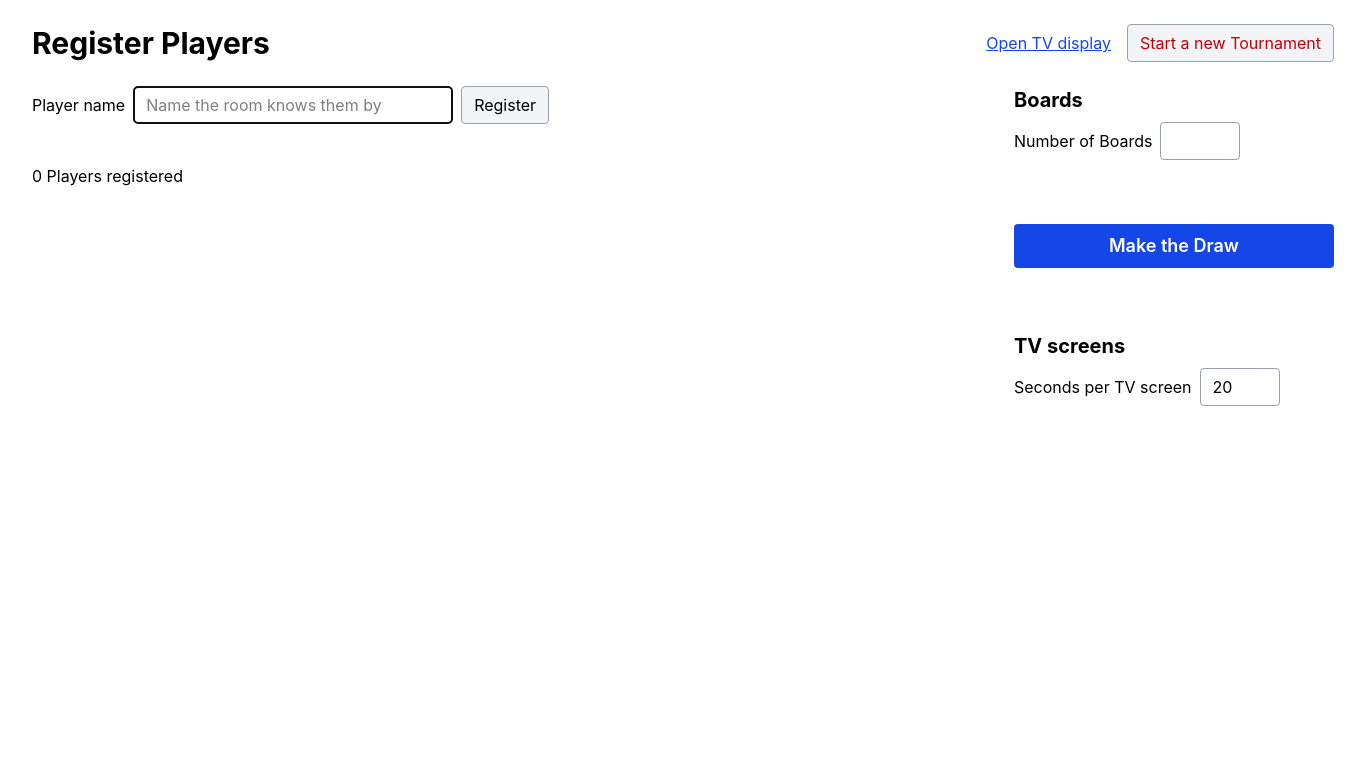
Test: the organizer route › shows why the Draw is refused
The image size is (1366, 768).
Type "Dave K." into the field labelled "Player name" at point(293, 105), box [133,86,453,124]
Then press Enter
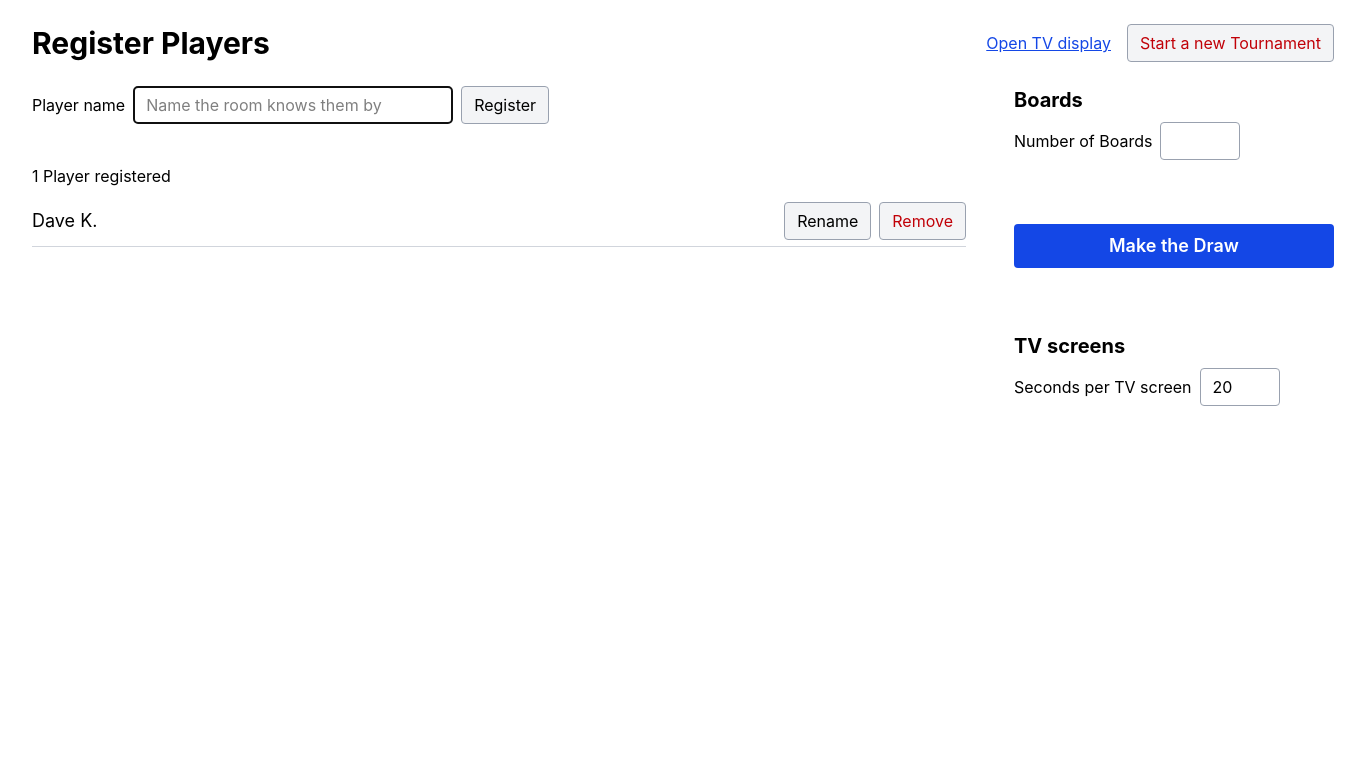
Type "Big Dave" into the field labelled "Player name" at point(293, 105), box [133,86,453,124]
Then press Enter
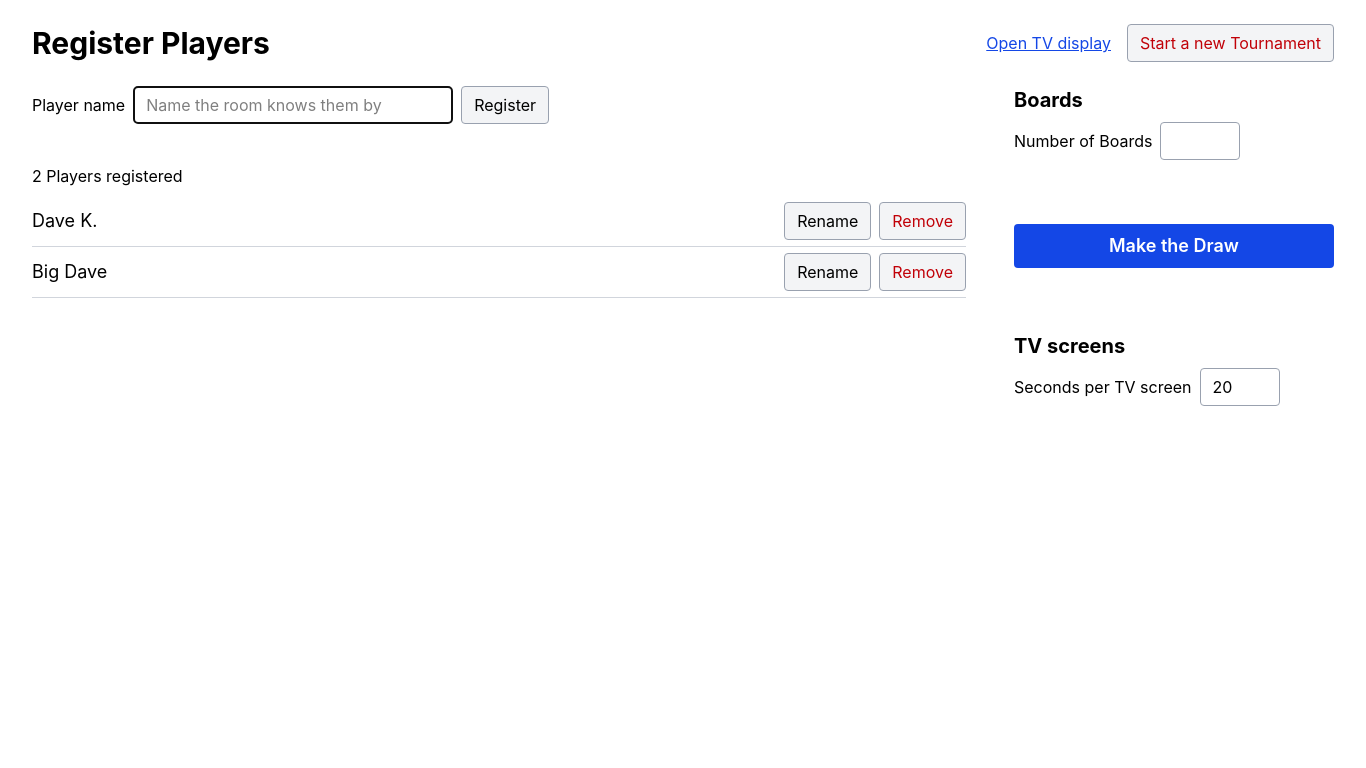
Click the button "Make the Draw" at point(1174, 246), box [1014,224,1334,268]
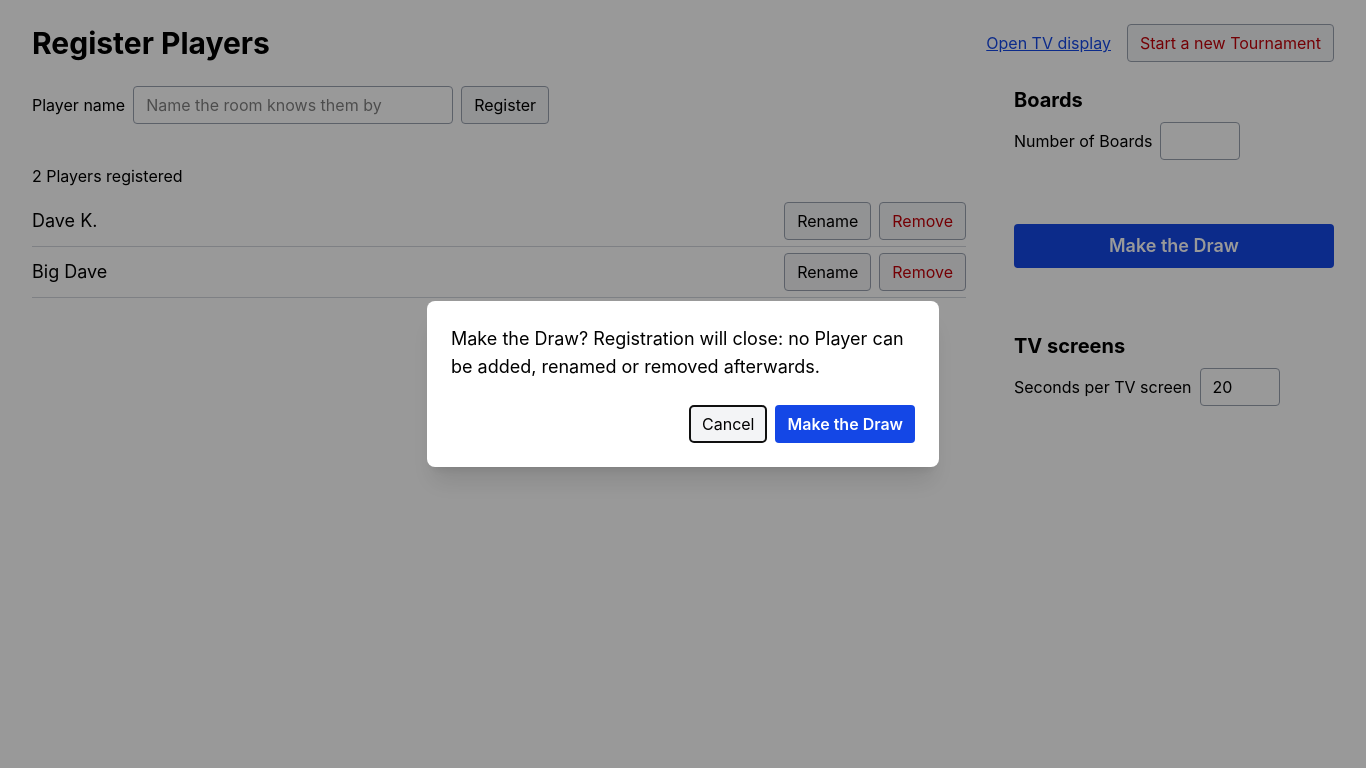
Click the 2nd button "Make the Draw" at point(845, 424), box [776,405,915,443]
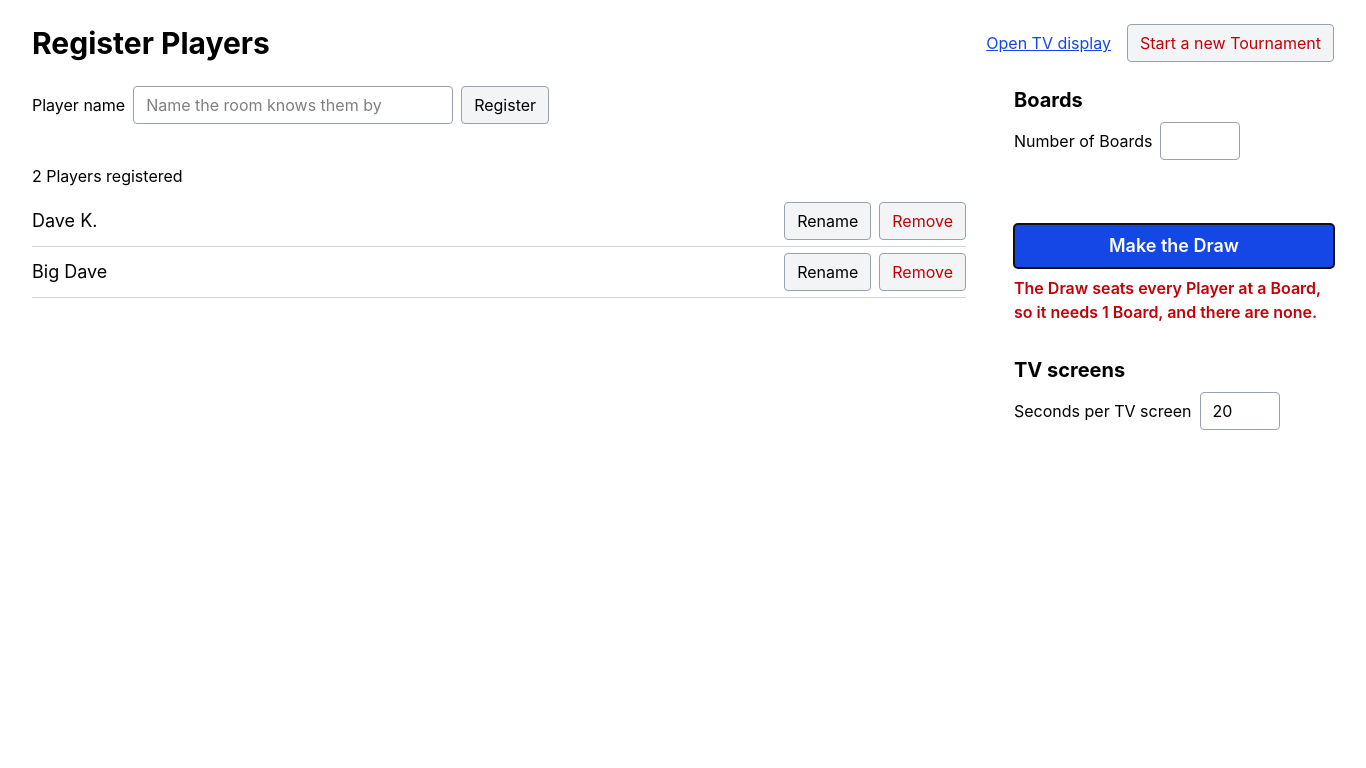
Expected: the 2nd message reads "The Draw seats every Player at a Board, so it needs 1 Board, and there are none.", [1014,278,1321,322]
